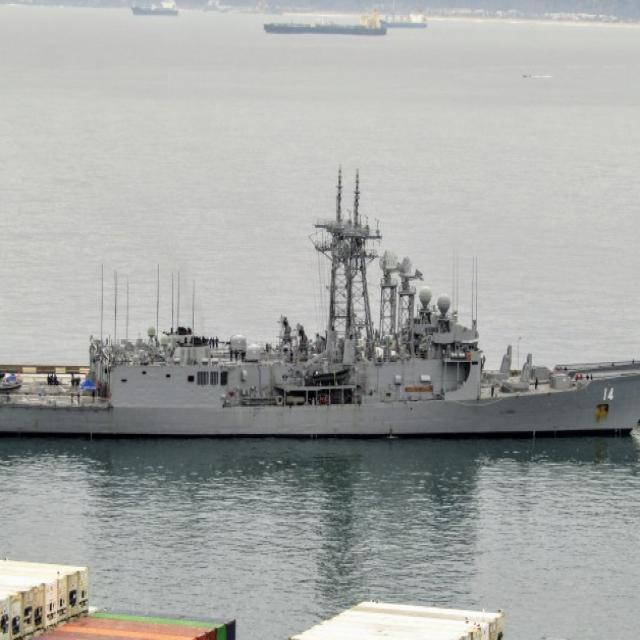Fragata: (1, 165, 640, 449)
